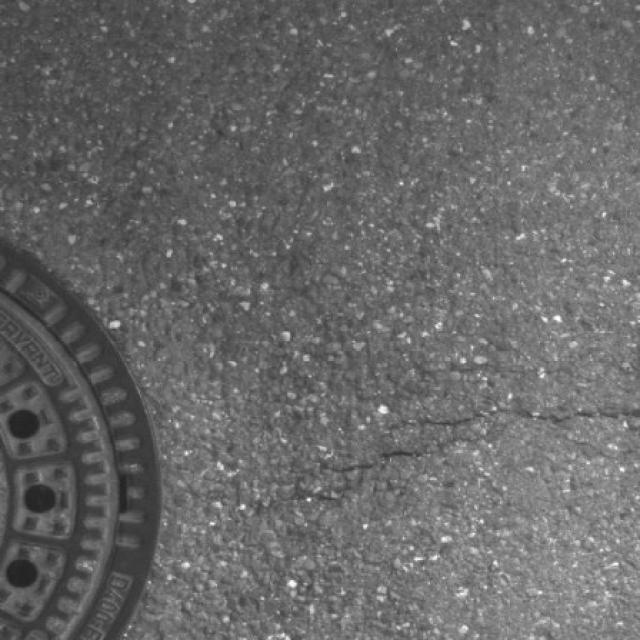Alligator Crack: (211, 300, 640, 582)
